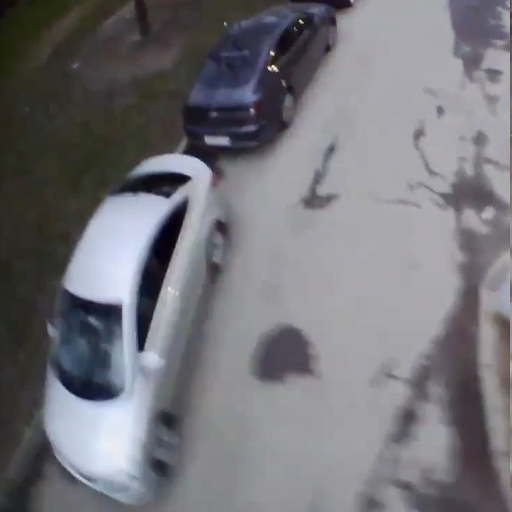Car: (36, 150, 228, 507), (182, 1, 336, 156)
